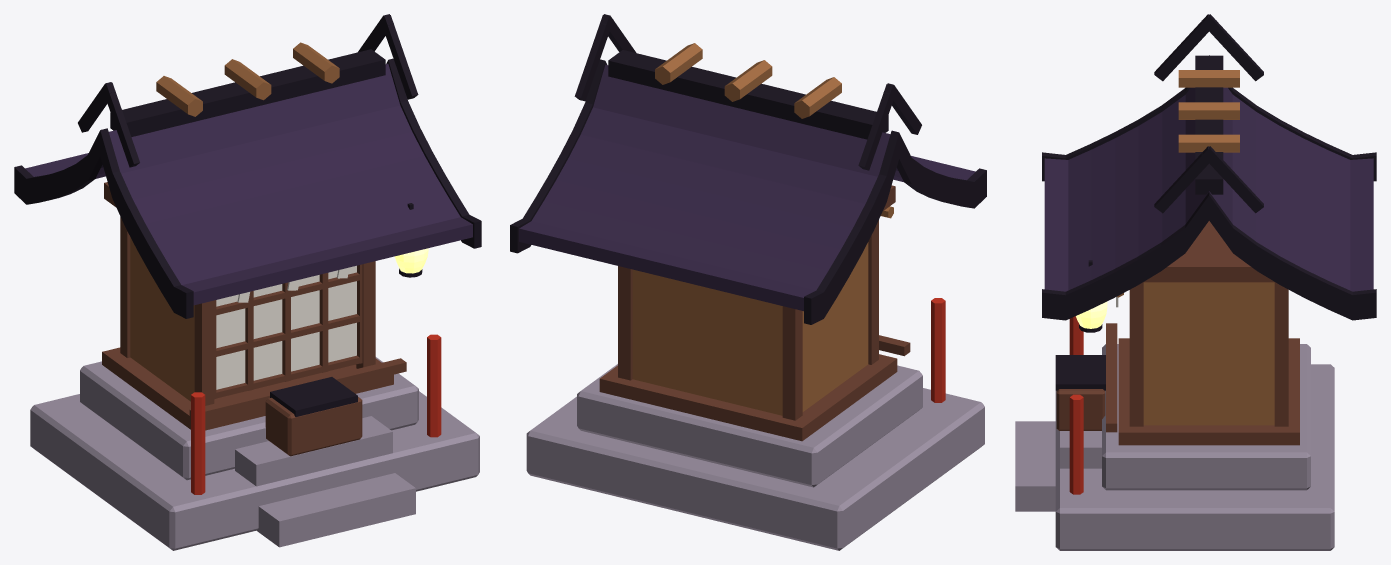
The model's file is shrine.glb.
The picture shows the model from 3 angles, left to right: view 1: azimuth 30°, elevation 25°; view 2: azimuth 150°, elevation 25°; view 3: azimuth 270°, elevation 25°; orthographic projection. The views are drawn at different scales.
Parts seen in each view (by area): view 1: shrine; view 2: shrine; view 3: shrine.
Part boxes in pixels (<box>): shrine: <box>14,14,481,550</box>; shrine: <box>510,14,986,550</box>; shrine: <box>1015,14,1376,550</box>.
Size of the model in its own units: 2.5 by 3.15 by 2.59.
